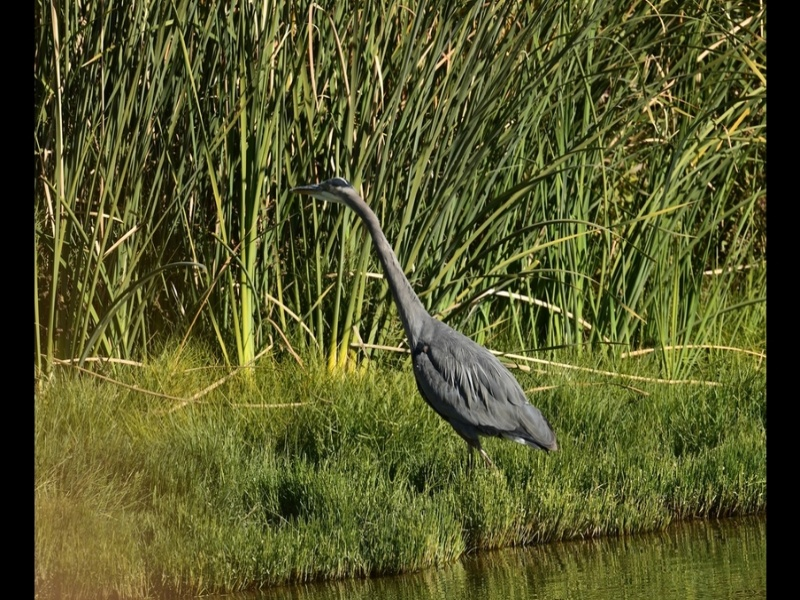heron: (291, 173, 562, 506)
